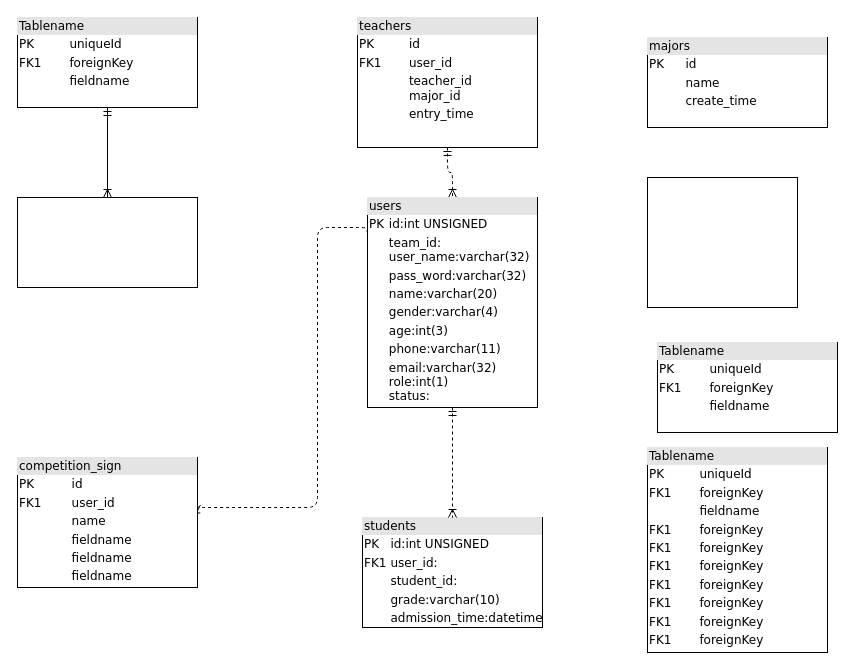
Some shapes in this 855 by 670 pixel diagram are drawn without their labels. The shapes that lost their labels are listed below. From the top down, each one's centre as x and y in pixels, then its label:
At (x=107, y=242): "team PK id name create_time".
At (x=722, y=242): "project PK id FK1 majors_id foreignKey FK1 foreignKey".
